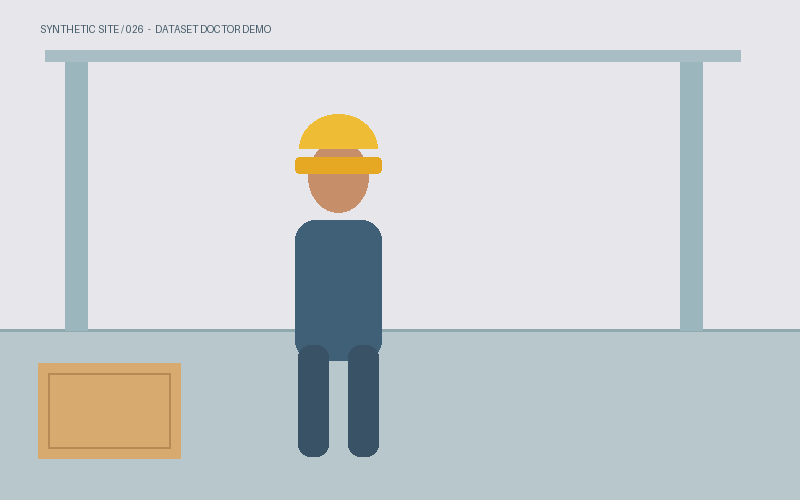Safety-Helmet: (295, 127, 381, 173)
